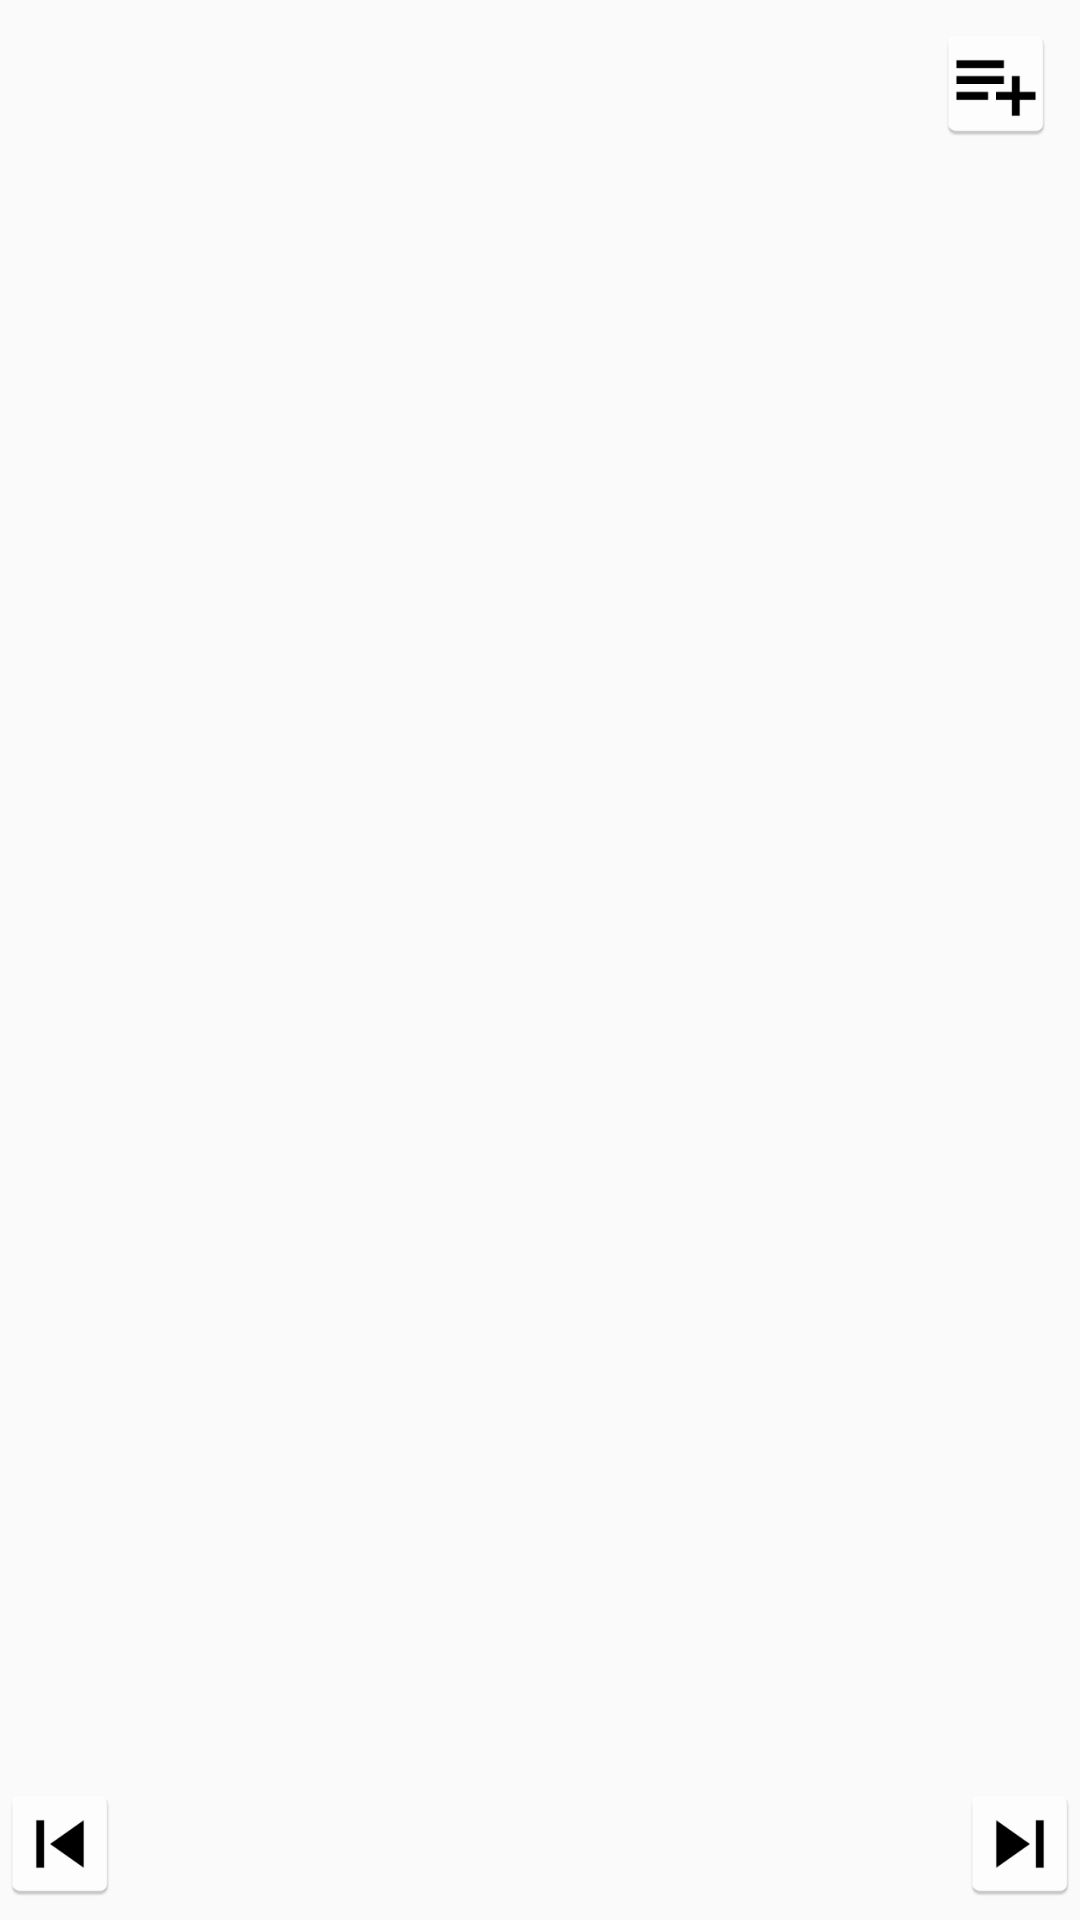

Screen size 1080*1920. Icon name, then its box in pixels as (x1, y1, x2, y2):
add album to playlist: (949, 46, 1044, 134)
next: (973, 1806, 1068, 1894)
previous: (13, 1806, 108, 1894)
